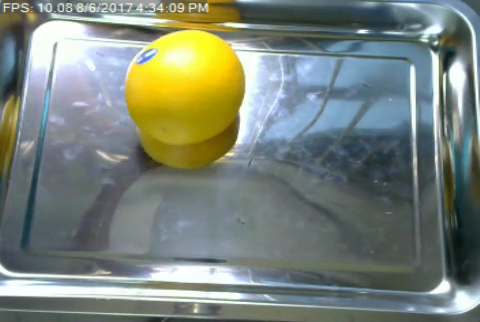Orange: (124, 29, 244, 144)
